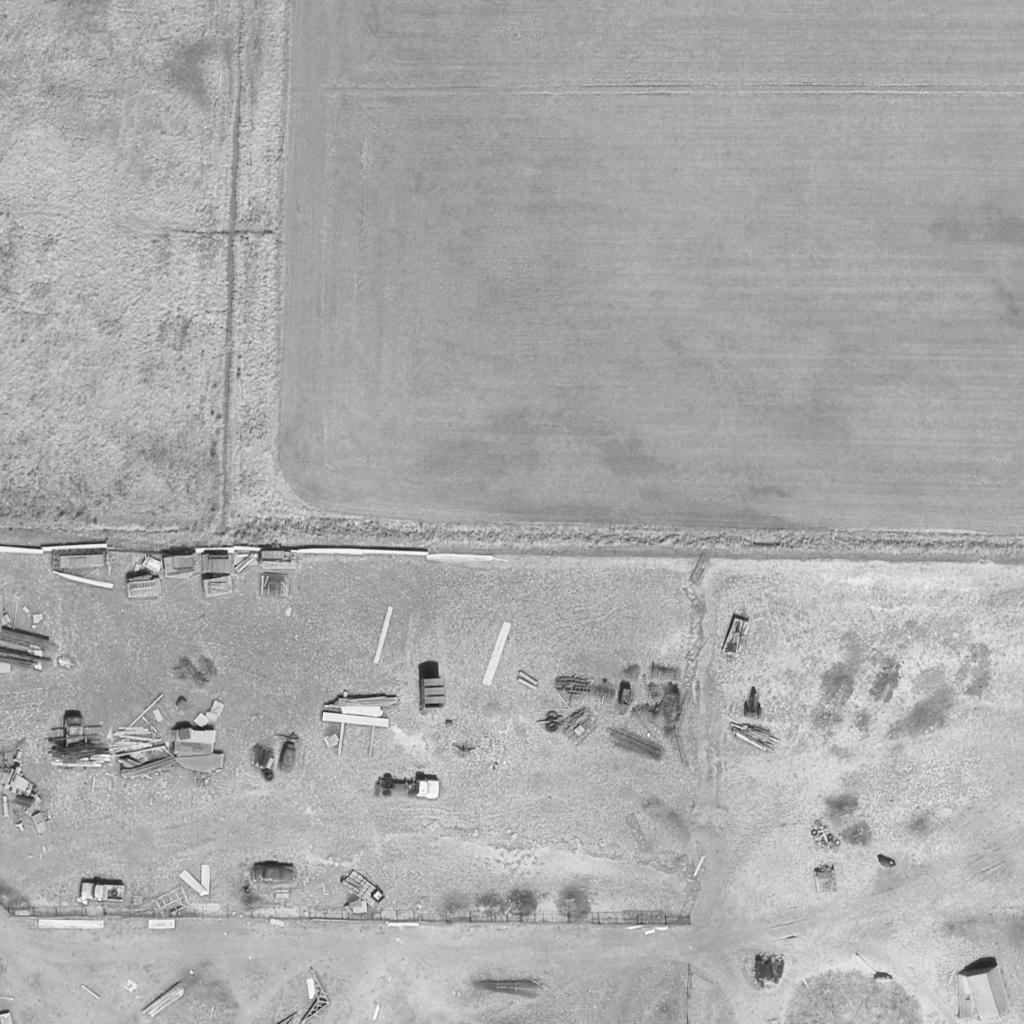vehicle: (378, 775, 440, 801), (64, 716, 88, 776), (252, 865, 298, 885), (81, 884, 125, 902), (279, 742, 297, 774)
